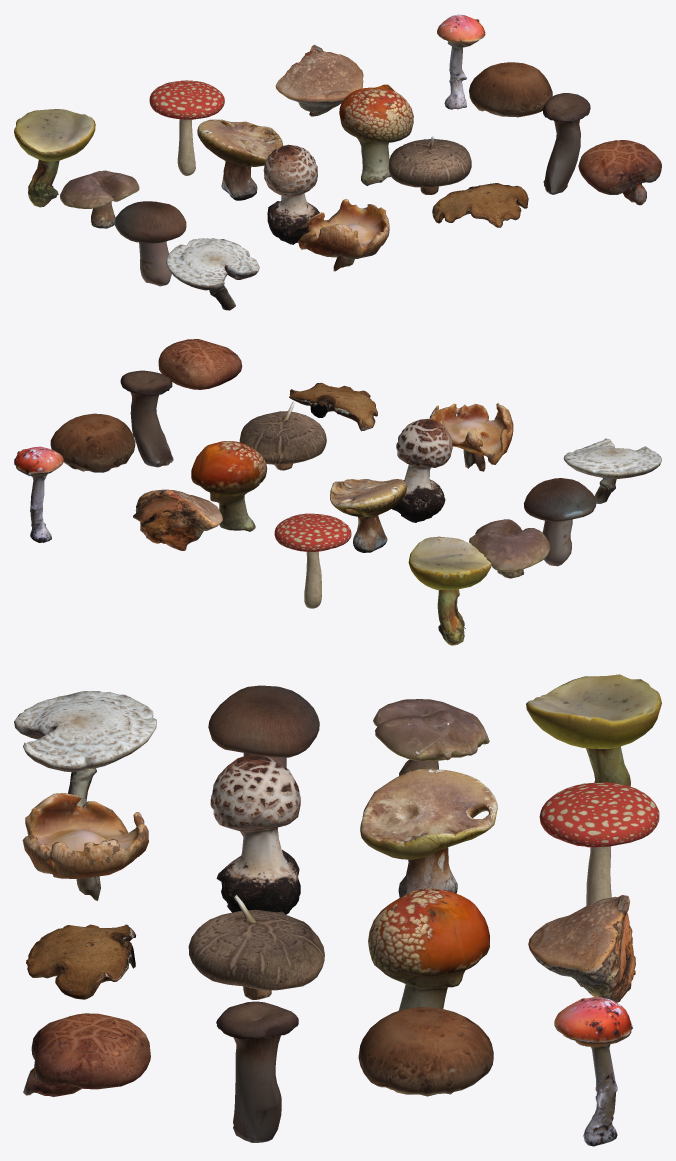
The model's file is lowpoly_mushrooms.glb.
3 renders of one model, top to bottom at view 1: azimuth 30°, elevation 25°; view 2: azimuth 150°, elevation 25°; view 3: azimuth 270°, elevation 25°, orthographic. The views are drawn at different scales.
Visible parts, largest first — view 1: mushroom_08, mushroom_01, mushroom_10, mushroom_12, mushroom_07, mushroom_03, mushroom_11, mushroom_16, mushroom_09, mushroom_15, mushroom_13, mushroom_02 (+4 smaller); view 2: mushroom_01, mushroom_08, mushroom_12, mushroom_09, mushroom_03, mushroom_13, mushroom_15, mushroom_10, mushroom_07, mushroom_02, mushroom_16, mushroom_14 (+4 smaller); view 3: mushroom_07, mushroom_12, mushroom_08, mushroom_09, mushroom_11, mushroom_13, mushroom_01, mushroom_10, mushroom_16, mushroom_03, mushroom_02, mushroom_14 (+4 smaller).
Part boxes in pixels (x1,y1,x2,y2): mushroom_08: (339, 84, 413, 185); mushroom_01: (14, 109, 95, 207); mushroom_10: (298, 199, 389, 271); mushroom_12: (263, 144, 319, 244); mushroom_07: (197, 119, 282, 200); mushroom_03: (275, 44, 363, 116); mushroom_11: (166, 238, 259, 310); mushroom_16: (578, 140, 661, 205); mushroom_09: (469, 62, 552, 117); mushroom_15: (114, 201, 186, 286); mushroom_13: (388, 136, 471, 194); mushroom_02: (149, 80, 224, 175); mushroom_01: (408, 536, 491, 645); mushroom_08: (191, 441, 267, 531); mushroom_12: (392, 418, 452, 522); mushroom_09: (50, 413, 135, 472); mushroom_03: (133, 489, 222, 550); mushroom_13: (239, 401, 326, 470); mushroom_15: (524, 478, 596, 566); mushroom_10: (429, 403, 513, 471); mushroom_07: (330, 479, 407, 552); mushroom_02: (274, 513, 351, 608); mushroom_16: (158, 339, 242, 389); mushroom_14: (120, 370, 173, 467); mushroom_07: (360, 768, 497, 897); mushroom_12: (210, 755, 300, 914); mushroom_08: (368, 888, 489, 1010); mushroom_09: (358, 1007, 493, 1096); mushroom_11: (14, 691, 156, 806); mushroom_13: (188, 895, 324, 999); mushroom_01: (526, 674, 661, 786); mushroom_10: (22, 793, 148, 900); mushroom_16: (23, 1013, 150, 1096); mushroom_03: (528, 895, 635, 1002); mushroom_02: (539, 782, 659, 905); mushroom_14: (216, 1001, 298, 1142).
Bounding box in the file's own units: 583 × 126 × 423.
Materials: 16 (16 with a texture image).
